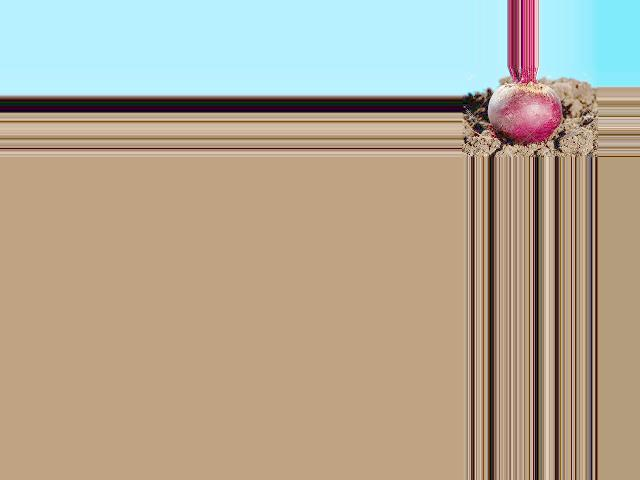beet: (487, 66, 561, 144)
